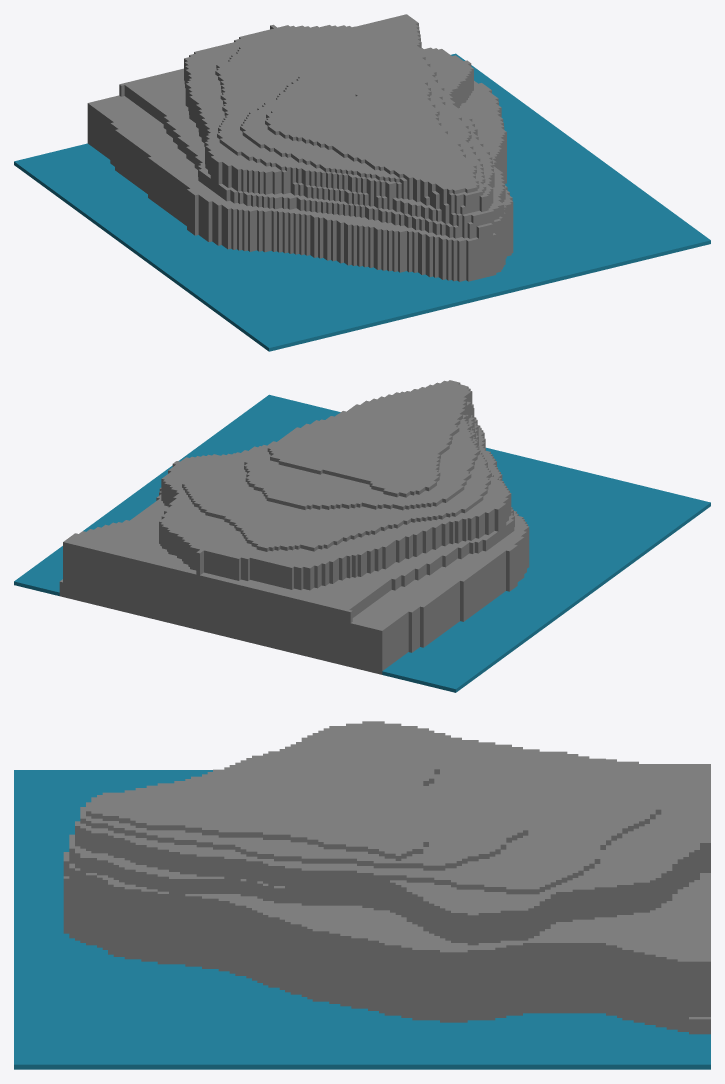
The model's file is Main Island 01.obj.
The picture shows the model from 3 angles, top to bottom: view 1: azimuth 30°, elevation 25°; view 2: azimuth 150°, elevation 25°; view 3: azimuth 270°, elevation 25°; orthographic projection. The views are drawn at different scales.
Visible parts, largest first — view 1: Light House-1; view 2: Light House-1; view 3: Light House-1.
Part boxes in pixels (x1=…): Light House-1: x1=14, y1=14, x2=710, y2=351; Light House-1: x1=14, y1=380, x2=710, y2=692; Light House-1: x1=14, y1=721, x2=710, y2=1069.
Bounding box in the file's own units: 126 × 24 × 126.
